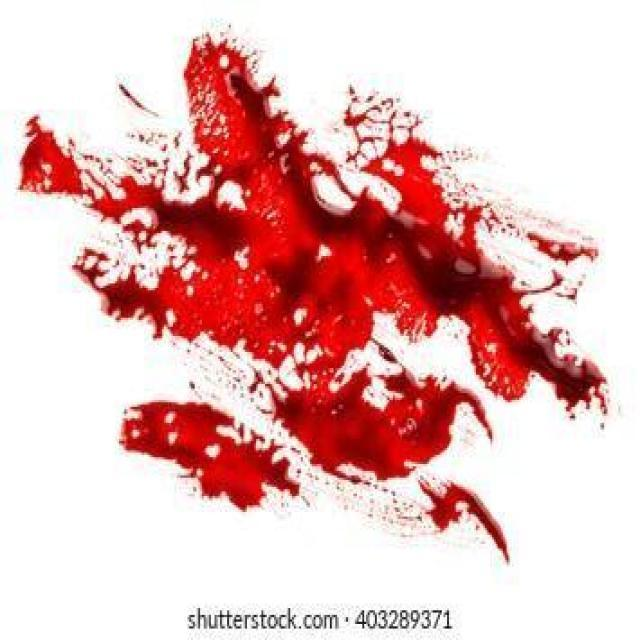knife: (153, 201, 387, 363), (451, 196, 611, 432), (182, 33, 342, 201), (268, 377, 488, 479), (115, 399, 304, 513), (343, 87, 456, 218), (68, 251, 195, 347), (378, 216, 463, 343), (415, 474, 513, 564), (16, 114, 85, 201), (85, 174, 167, 218), (526, 228, 598, 263), (119, 220, 153, 252)
